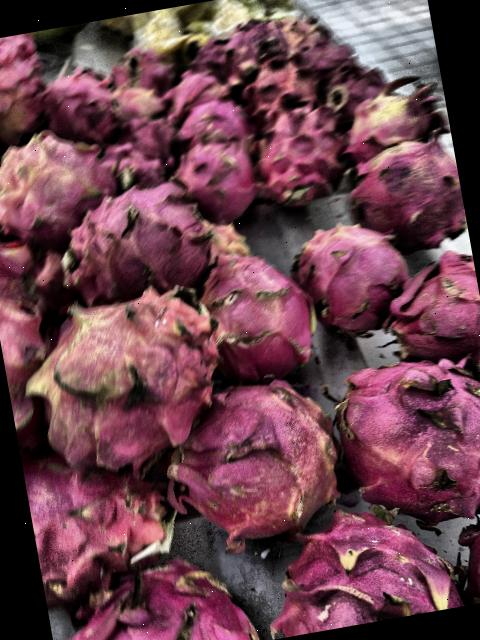buah-naga-belum-matang: (26, 277, 239, 470), (183, 378, 340, 524), (288, 210, 418, 338), (0, 122, 133, 244), (324, 74, 444, 166)
buah-naga-matang: (252, 488, 463, 639), (328, 343, 480, 525), (21, 434, 171, 598), (66, 180, 234, 304), (198, 234, 332, 389), (46, 545, 257, 640), (342, 116, 470, 264), (377, 253, 480, 405), (241, 109, 360, 213), (176, 134, 260, 217), (441, 483, 480, 605), (238, 58, 316, 112), (312, 62, 377, 117), (0, 34, 33, 125), (180, 104, 244, 140)
